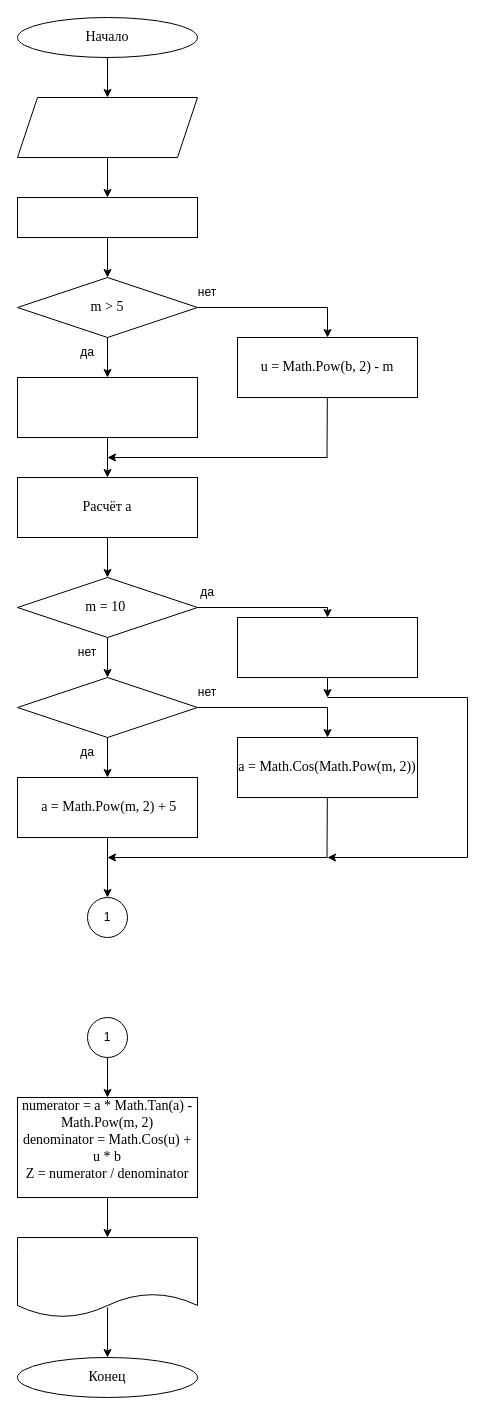
Some shapes in this 493 by 1415 pixel diagram are drawn without their labels. The centre of each missing label's shape, as x and y in pixels:
a = Math.Pow(m, 2) - Math.Cos(m): (327,647)
Console.WriteLine($"Результат вычисления Z: {Z}"): (107,1277)
m > 10: (107,707)
u = Math.Pow(b, 2): (107,407)
Ввод переменных m, b: (107,127)
Расчёт u: (107,217)
